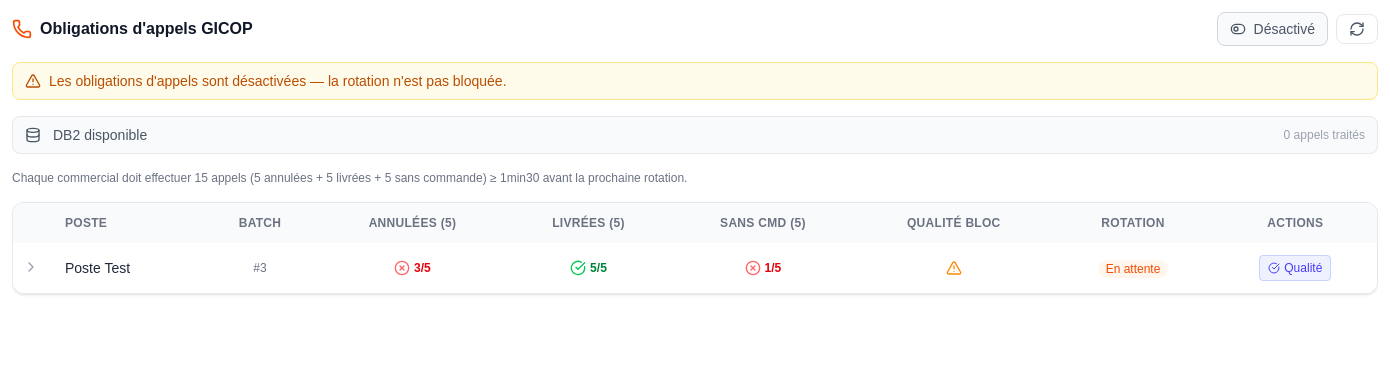
Test: CallObligationsView — OBL-025 › affiche le détail des tâches après clic sur le chevron
Expected: the text "#3" is shown, [202,243,319,293]
Click the button without text next to "Poste Test": click(31, 266) [21,256,41,276]
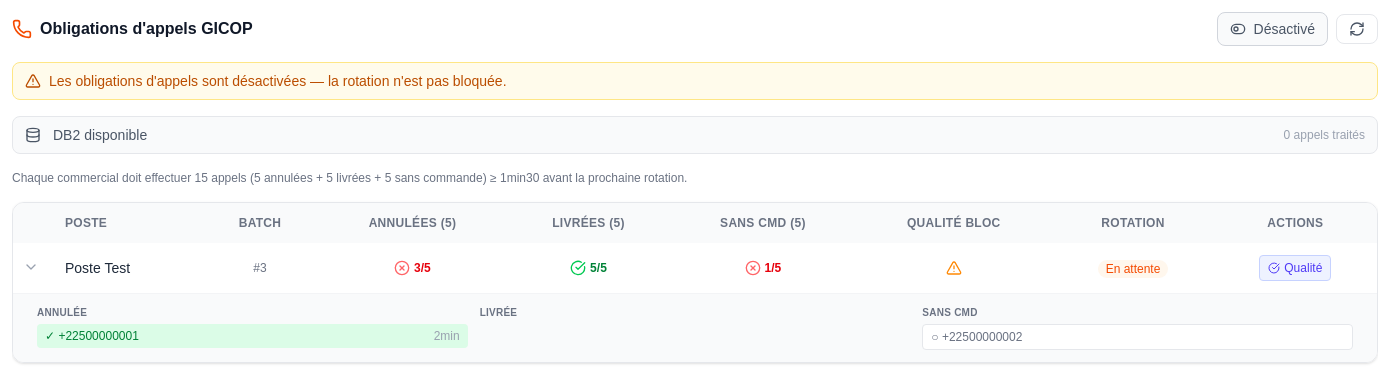
Now the text "Annulée" is shown, box [37,307,87,318]
Now the text "✓ +22500000001" is shown, box [45,328,139,344]
Now the text "2min" is shown, box [434,328,460,344]
